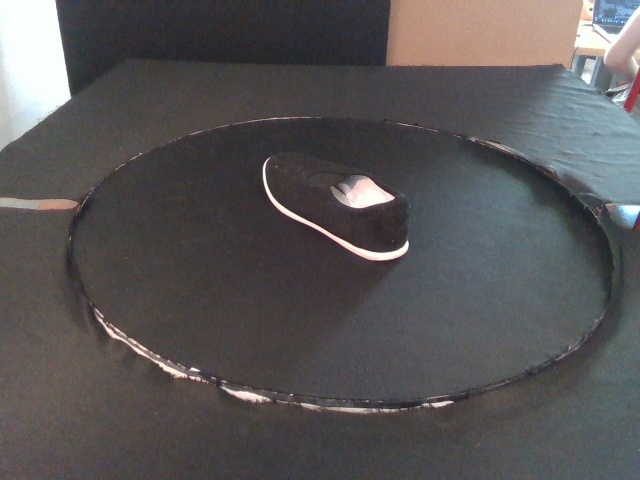shoe: (263, 151, 411, 262)
